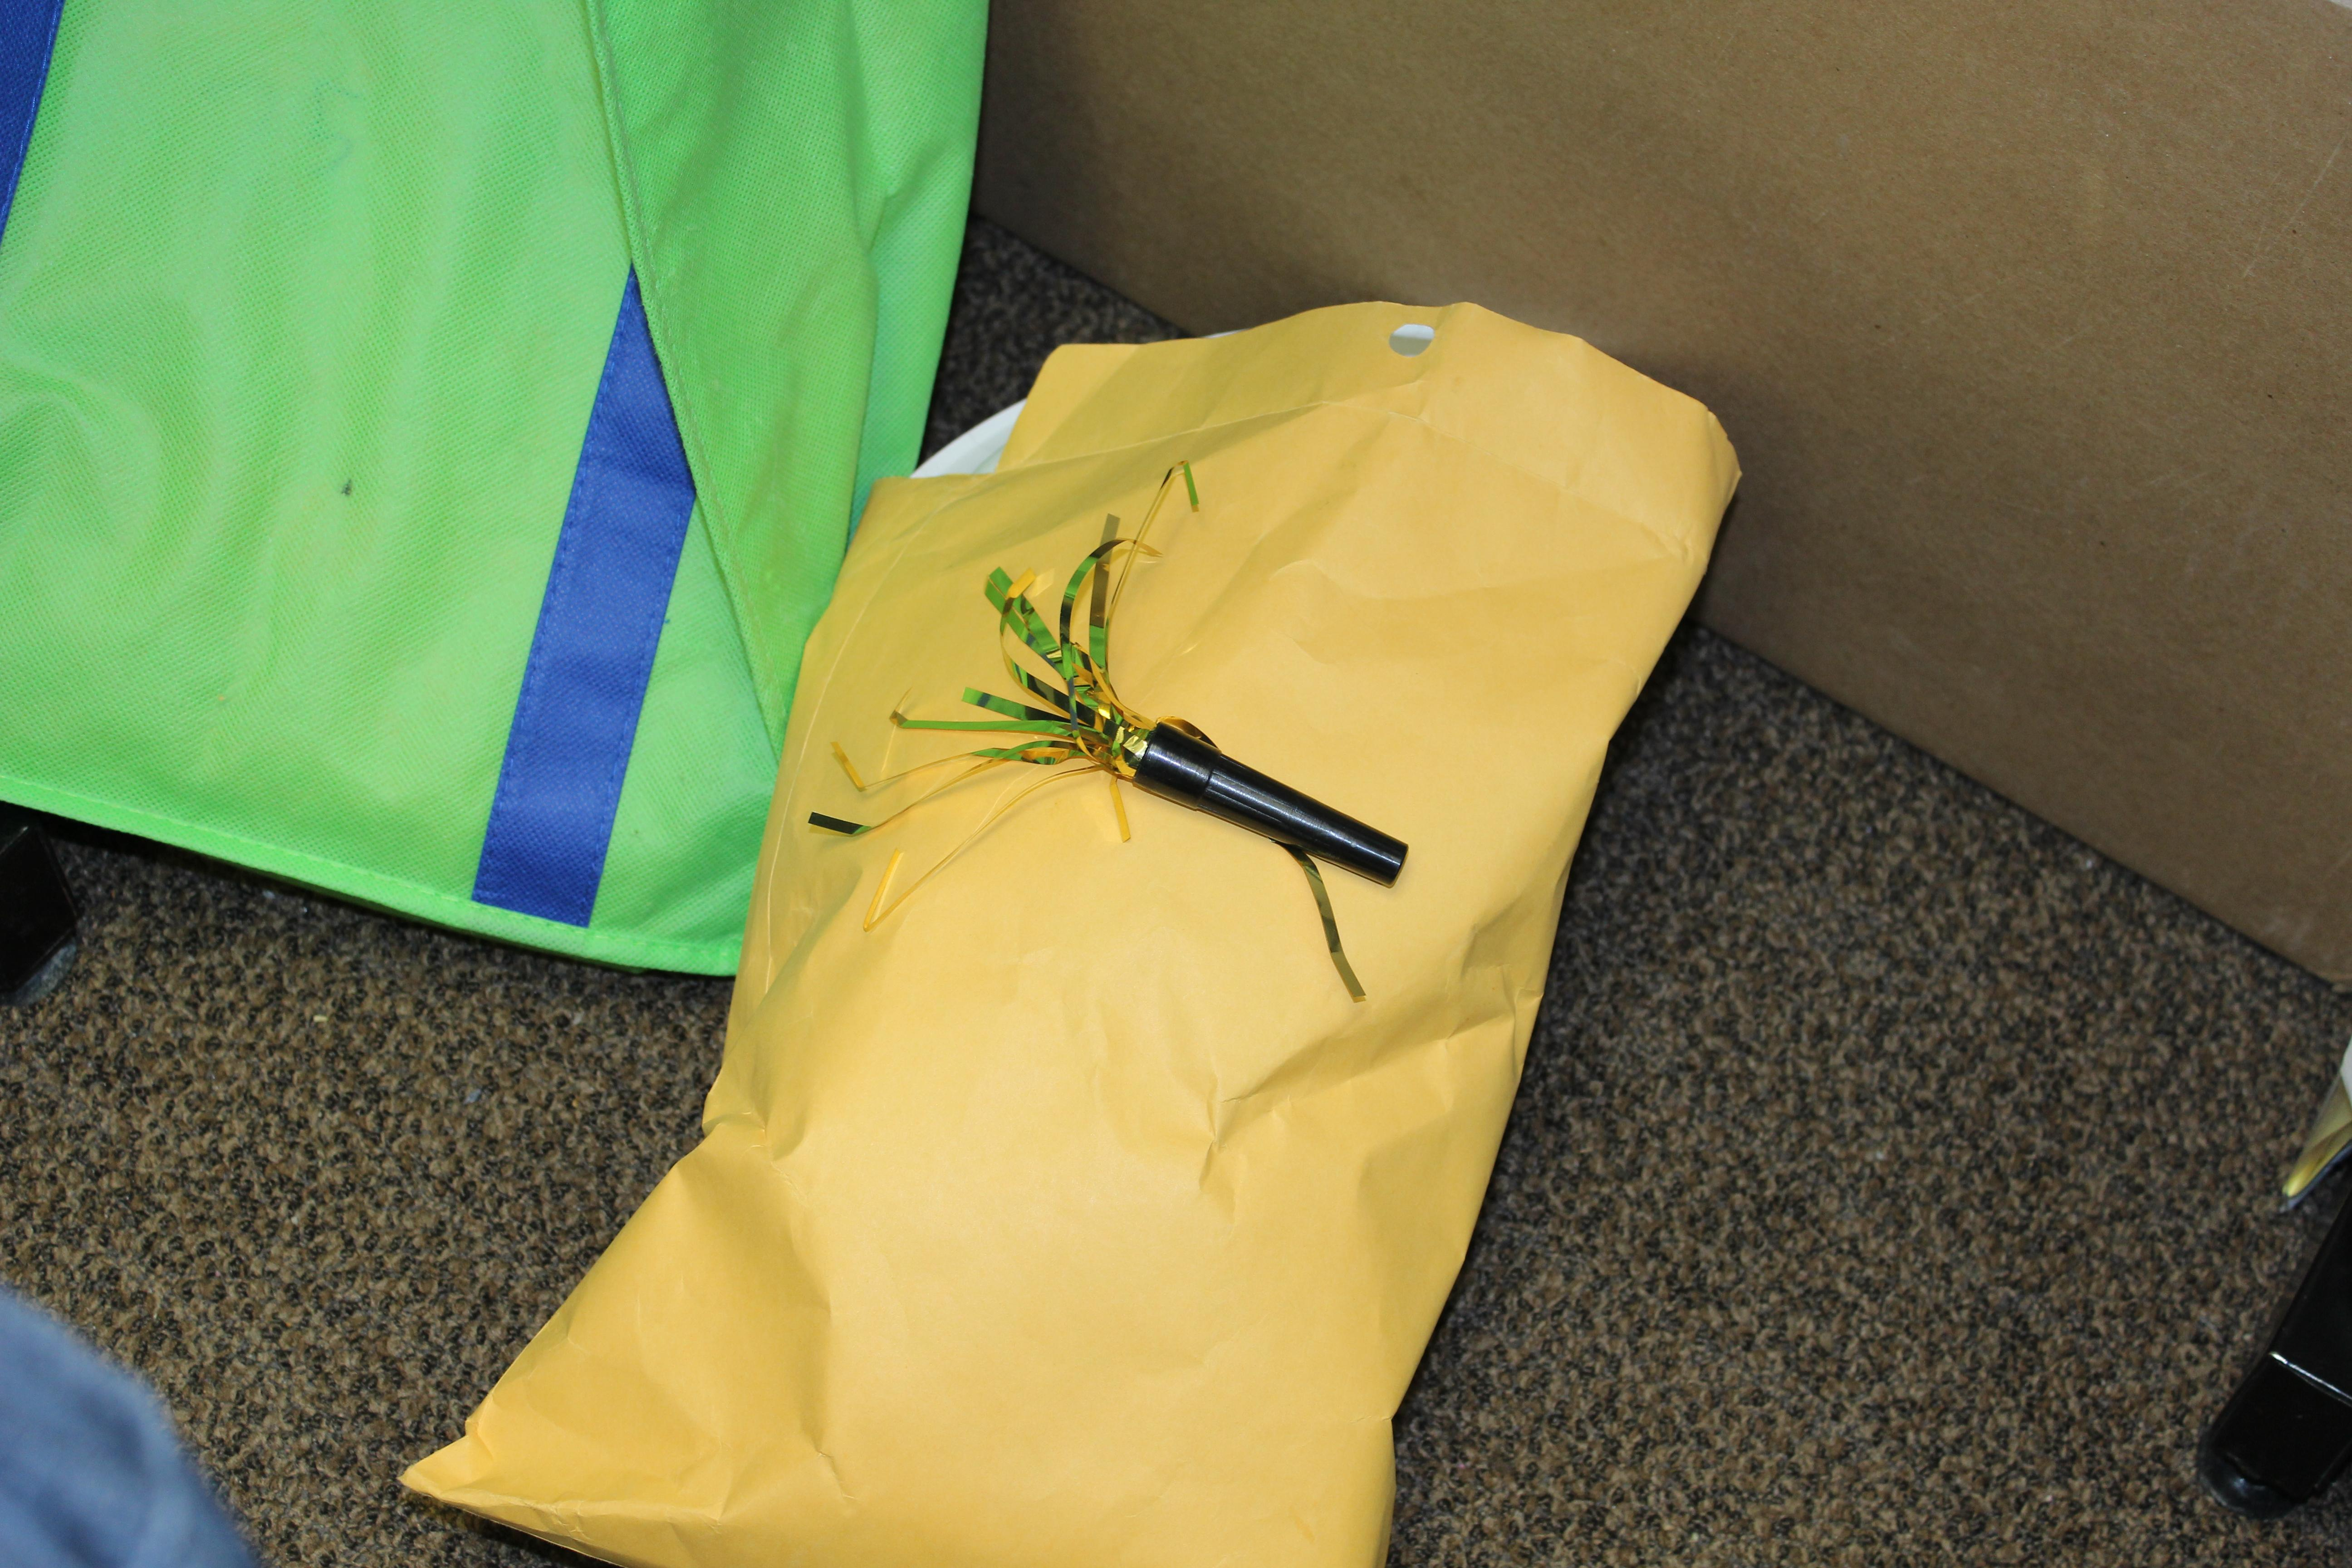partyFavor: (772, 439, 1438, 1020)
